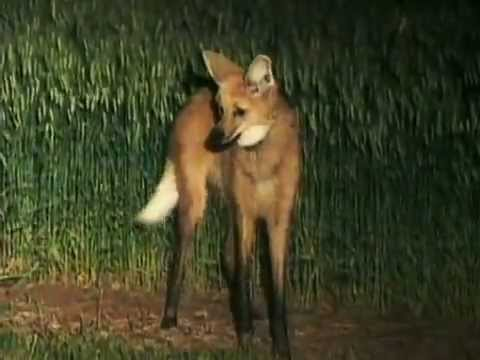LoboGuara: (130, 47, 306, 347)
